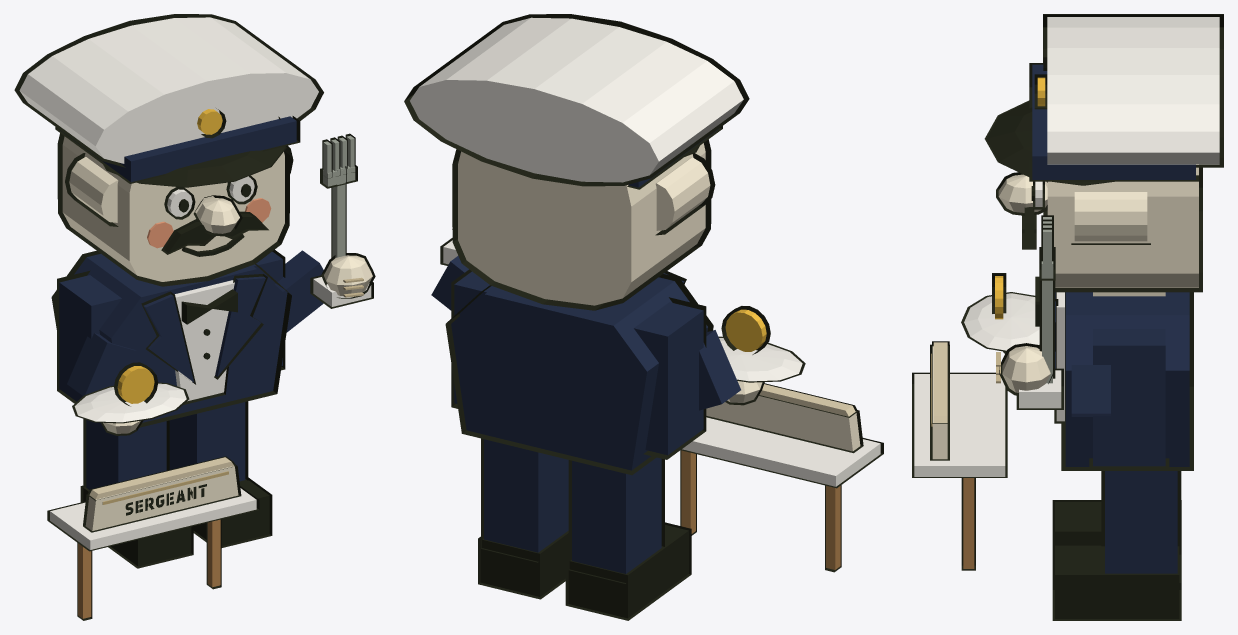
3 views of the same model, side by side, from view 1: azimuth 30°, elevation 25°; view 2: azimuth 150°, elevation 25°; view 3: azimuth 270°, elevation 25° (orthographic). The views are drawn at different scales.
Parts seen in each view (by area): view 1: Link Marine; view 2: Link Marine; view 3: Link Marine.
Boxes of the visible parts, bbox=[...] form: Link Marine: bbox=[14, 14, 375, 620]; Link Marine: bbox=[404, 14, 883, 620]; Link Marine: bbox=[912, 14, 1223, 620].
Bounding box in the file's own units: 0.722 × 0.9836 × 0.5155.
